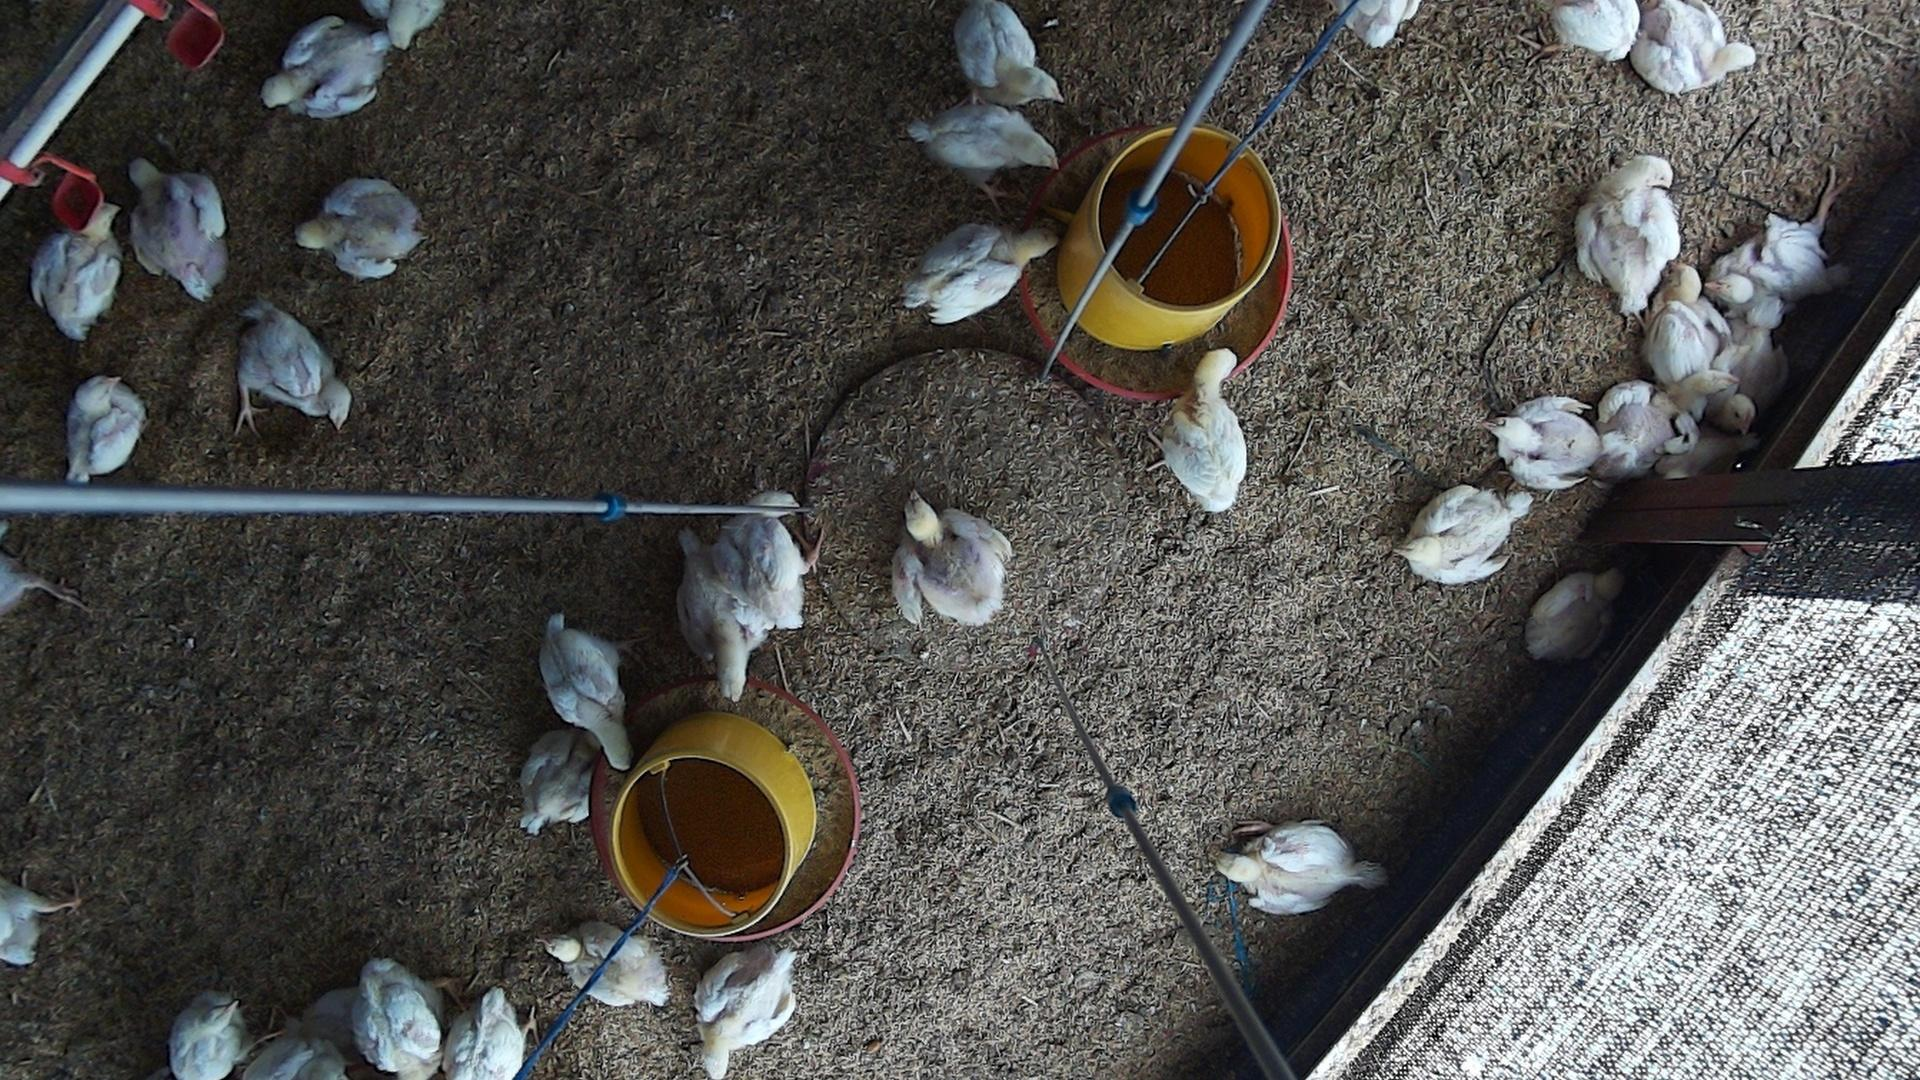ayam_broiler: (1705, 164, 1851, 327), (1577, 158, 1680, 316), (678, 529, 769, 703), (715, 489, 823, 634), (895, 497, 1010, 628), (1221, 824, 1383, 914), (903, 227, 1051, 324), (539, 617, 632, 771), (240, 303, 352, 430), (128, 160, 227, 302), (261, 16, 394, 119), (1163, 352, 1246, 512), (696, 949, 796, 1080), (294, 181, 422, 281), (1403, 487, 1532, 584), (32, 204, 121, 343), (906, 104, 1058, 182), (1704, 298, 1788, 438), (1631, 0, 1755, 94), (542, 922, 669, 1009), (956, 3, 1059, 105), (1493, 396, 1602, 491), (357, 960, 443, 1080), (1647, 262, 1730, 385), (1597, 381, 1689, 479), (65, 376, 145, 481), (1526, 574, 1618, 662), (516, 733, 589, 835), (448, 989, 524, 1080), (169, 994, 245, 1080), (1555, 0, 1639, 62)
